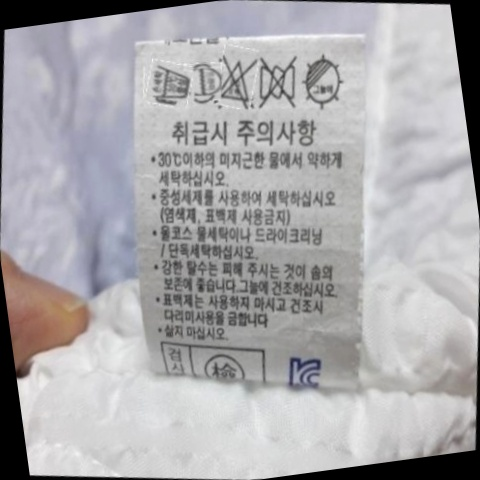DN_wring: (254, 52, 307, 110)
dry_clean: (187, 61, 224, 101)
hand_wash: (144, 56, 197, 107)
non_chlorine_bleach: (214, 51, 260, 108)
shade_dry: (296, 50, 352, 115)
